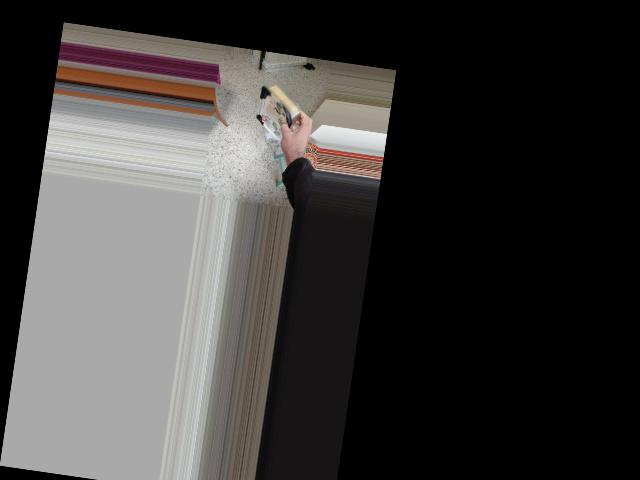cheese: (237, 67, 323, 142)
